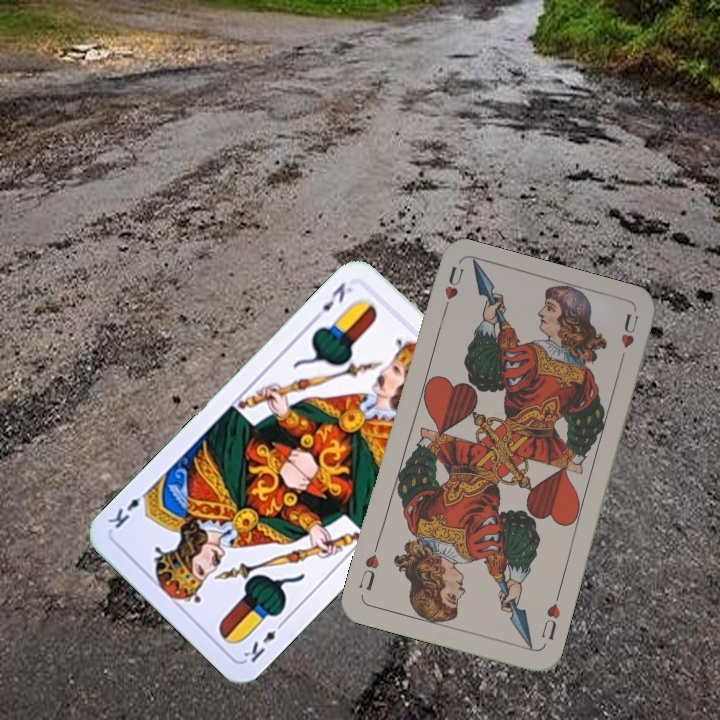EK: (239, 616, 288, 666), (309, 278, 356, 324)
HU: (437, 262, 467, 319), (537, 590, 563, 643)
